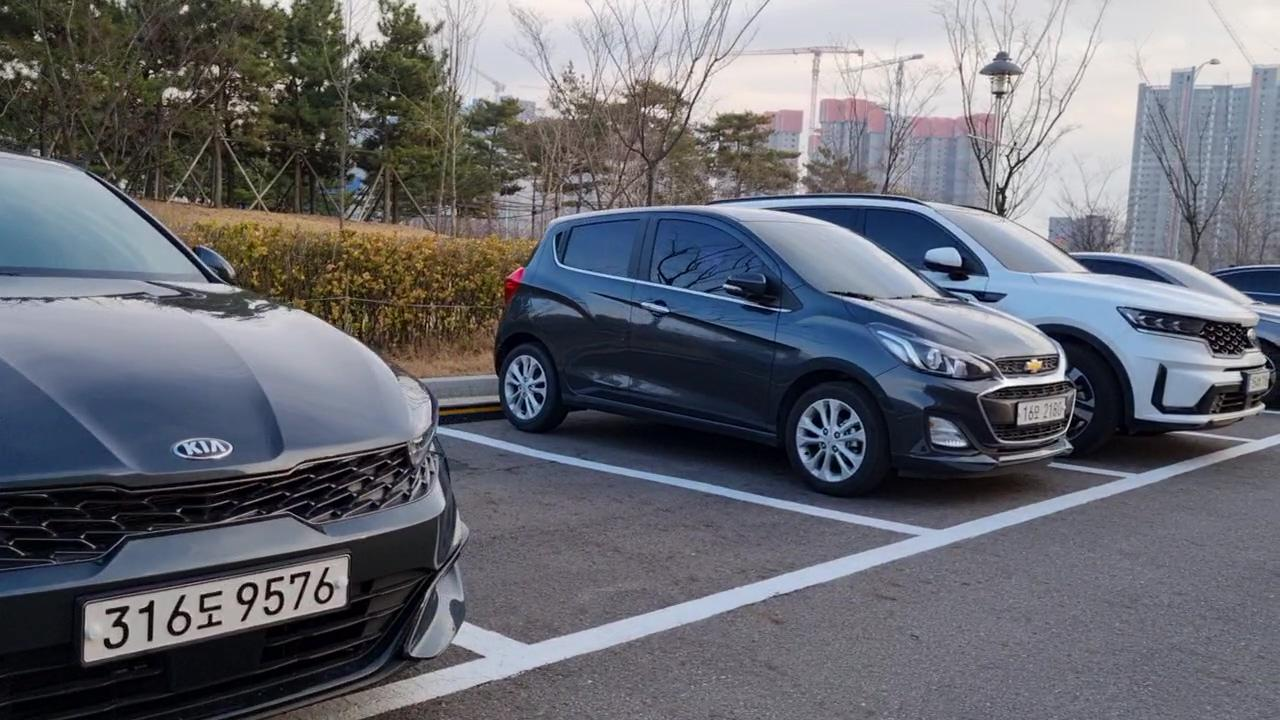empty: (447, 353, 940, 682)
occupied: (525, 244, 1144, 556)
